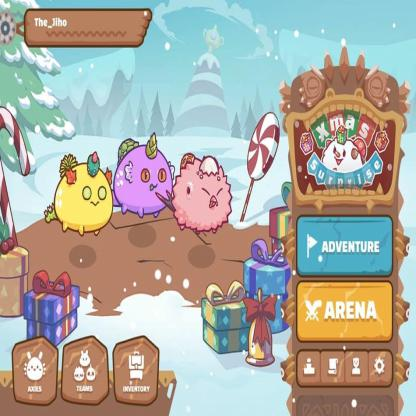axie-biaozhu: (43, 150, 114, 236), (113, 131, 175, 220), (175, 150, 233, 233)
